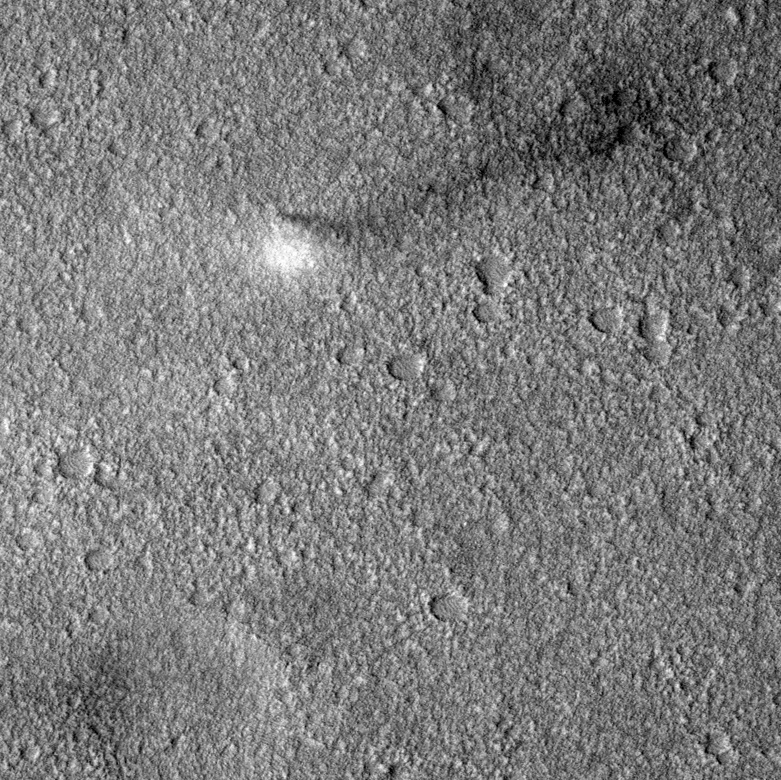dust_devil: (259, 62, 641, 276)
